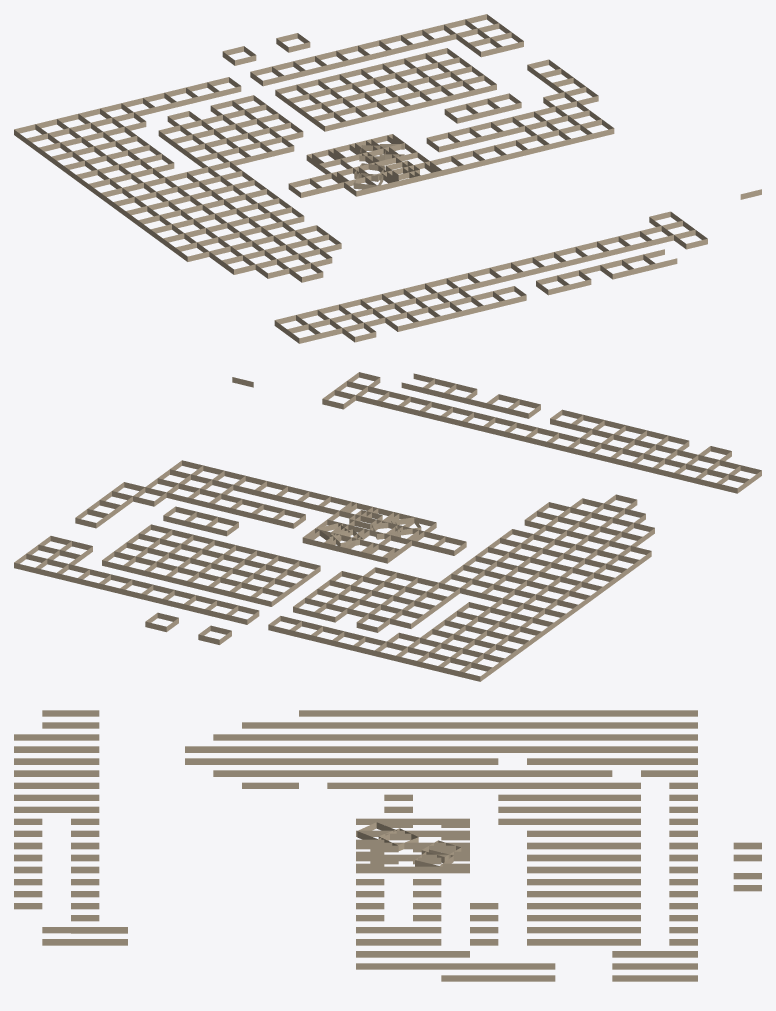
The model's file is object_37_lev1_lev2.glb.
The picture shows the model from 3 angles, top to bottom: view 1: azimuth 30°, elevation 25°; view 2: azimuth 150°, elevation 25°; view 3: azimuth 270°, elevation 25°; orthographic projection. The views are drawn at different scales.
Visible parts, largest first — view 1: object_37_lev1_lev2; view 2: object_37_lev1_lev2; view 3: object_37_lev1_lev2.
Part boxes in pixels (left/top/right/bottom): object_37_lev1_lev2: left=14, top=14, right=761, bottom=343; object_37_lev1_lev2: left=14, top=372, right=761, bottom=681; object_37_lev1_lev2: left=14, top=710, right=761, bottom=981.
Size of the model in its own units: 57.68 by 0.6202 by 65.12.
